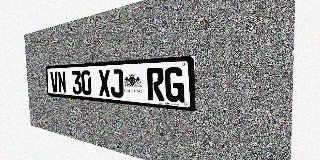0: (81, 70, 92, 95)
3: (72, 71, 82, 95)
G: (165, 67, 184, 103)
J: (110, 69, 124, 98)
N: (58, 71, 66, 93)
R: (147, 68, 165, 101)
V: (50, 71, 59, 93)
X: (98, 70, 111, 97)
